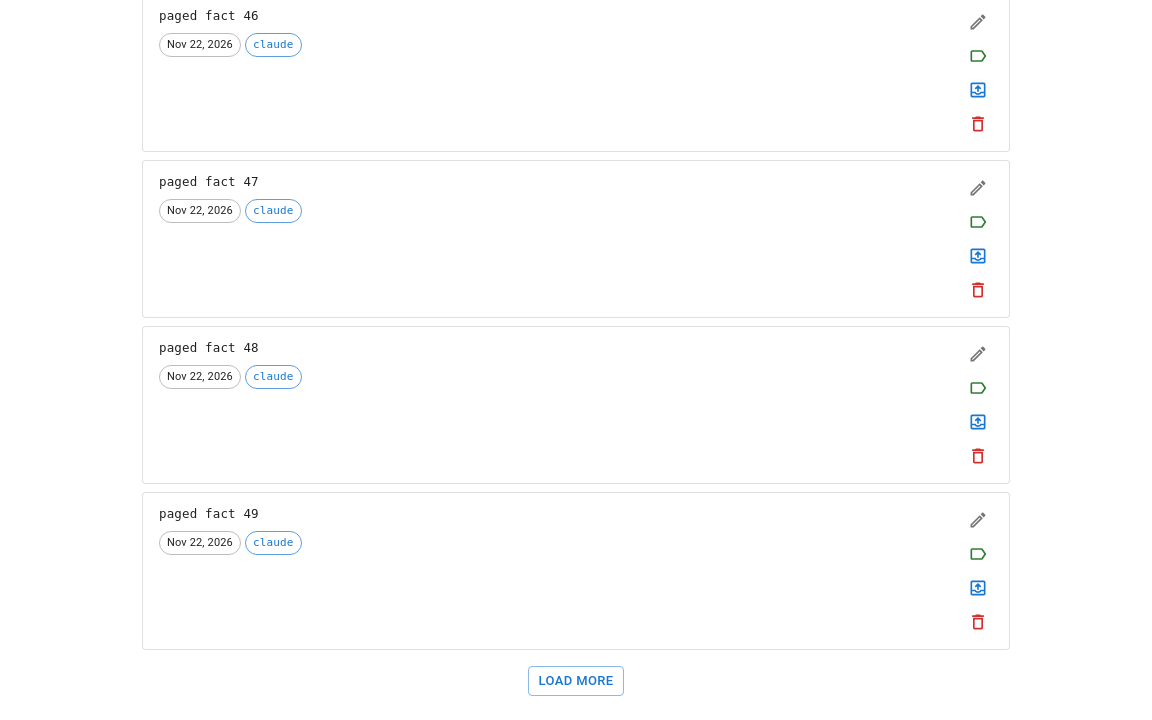
Test case: paging (pj1k) › Load more fetches offset 50 and the counter grows
(page scrolled)
Click the button "Load more". click: point(576, 681)
box: [528,666,624,696]
(page scrolled)
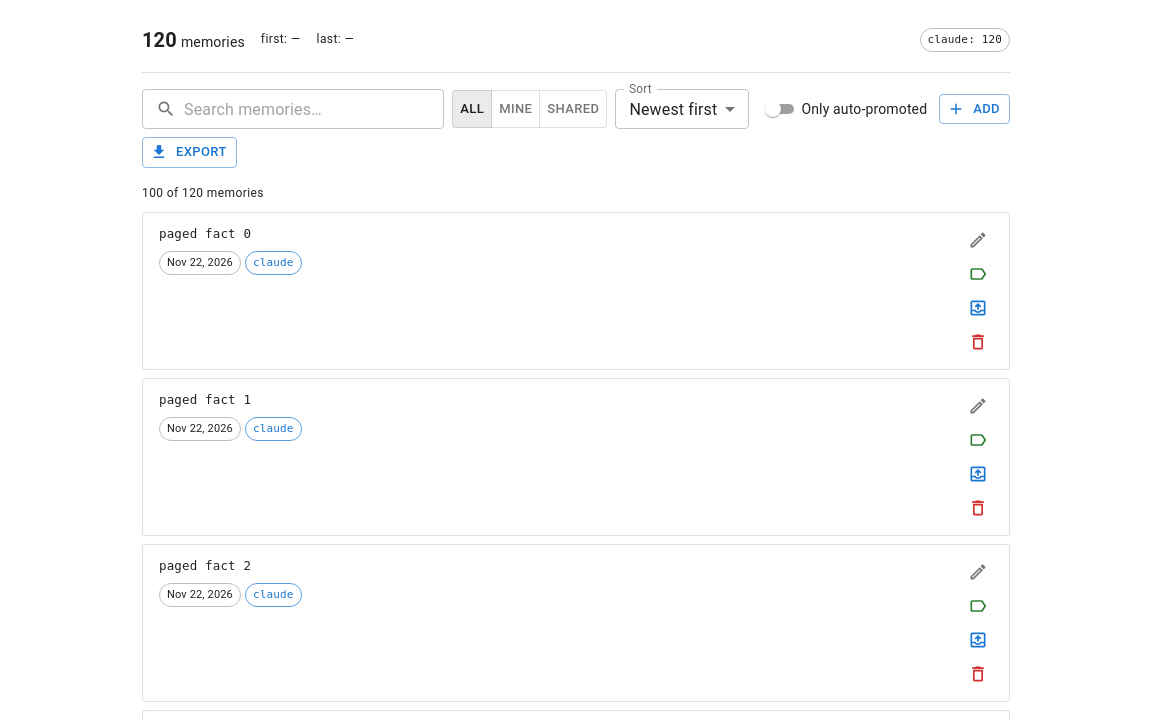
Expected: the text "100 of 120 memories" is shown, [142,186,264,200]
